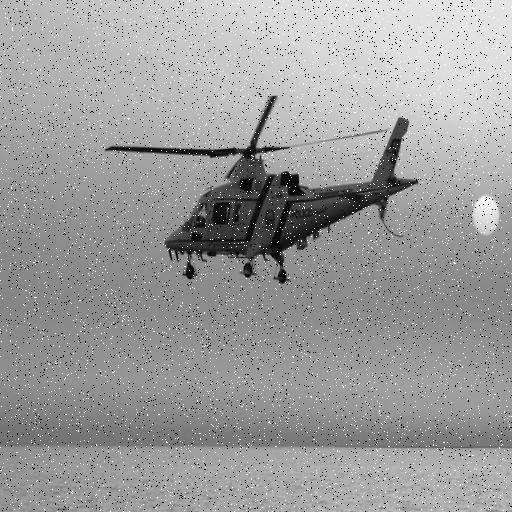helicopter: (126, 100, 418, 288)
